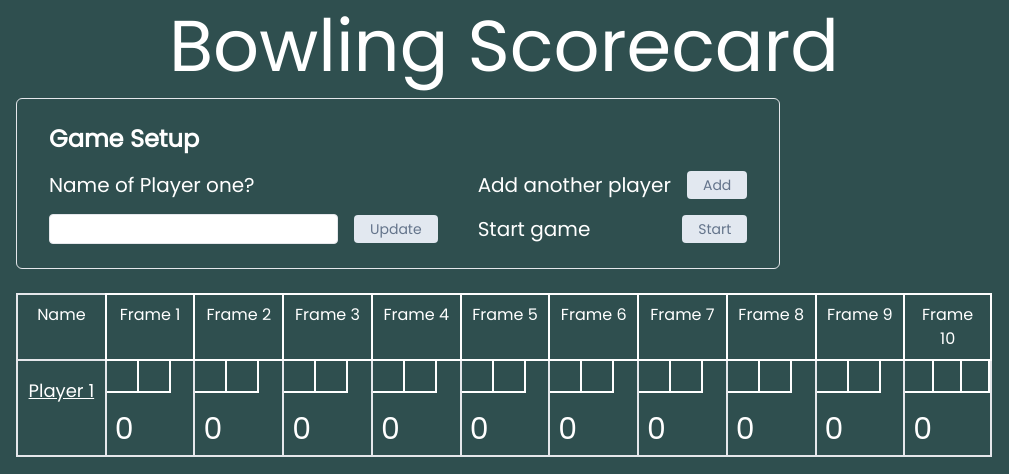
Scenario: Single player tests › Accumulated score calculations › total points with strikes should add 10 to that current frame, then add the both bowl's score to it the frame after
Click the button with test id "start-game-btn" at (715, 229), box left=682, top=215, right=747, bottom=243
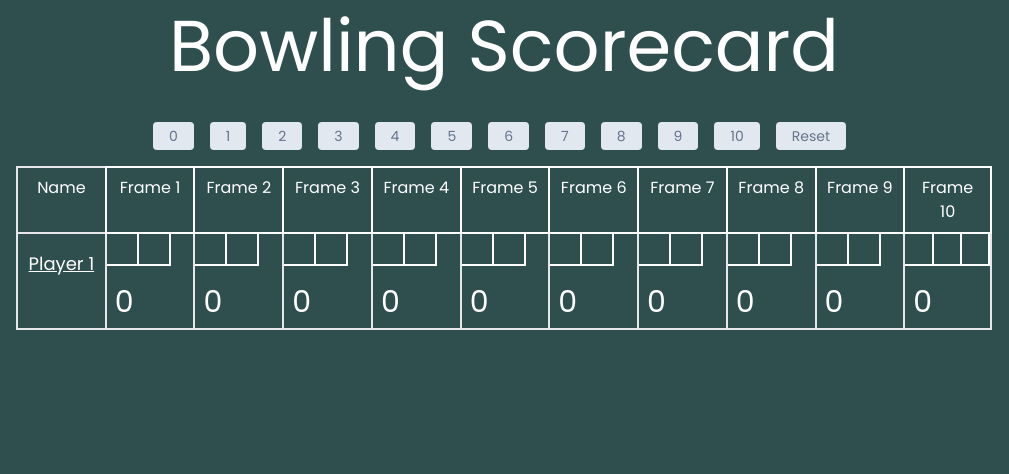
Click the button with test id "button-10" at (737, 136), box left=714, top=122, right=759, bottom=150
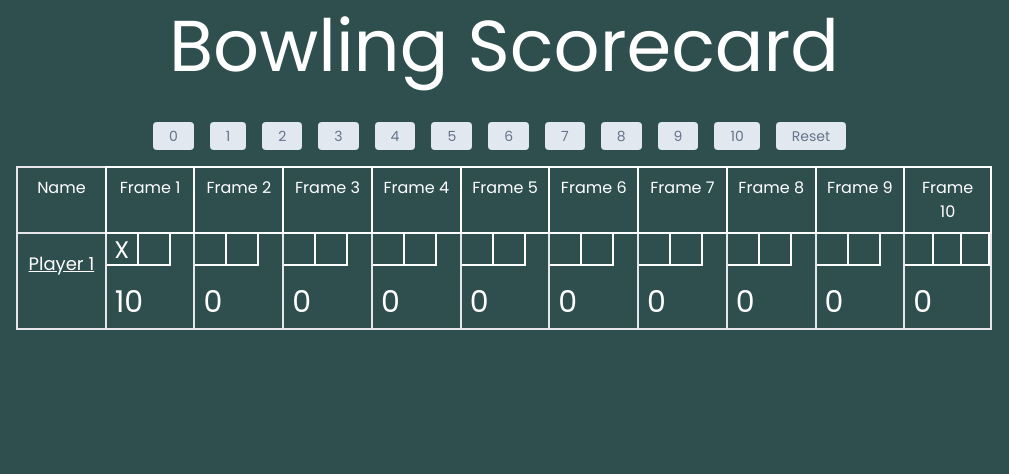
Expected: the text with test id "player-1-frame-1-total-score" reads "10", left=115, top=281, right=144, bottom=323
Click the button with test id "button-4" at (396, 136), box left=375, top=122, right=416, bottom=150
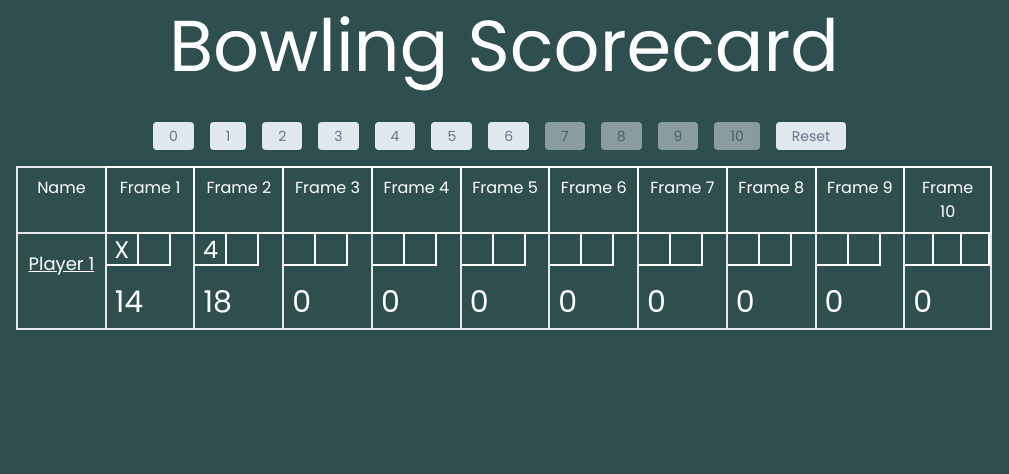
Expected: the text with test id "player-1-frame-1-total-score" reads "14", left=115, top=281, right=144, bottom=323
Click the button with test id "button-4" at (396, 136), box left=375, top=122, right=416, bottom=150
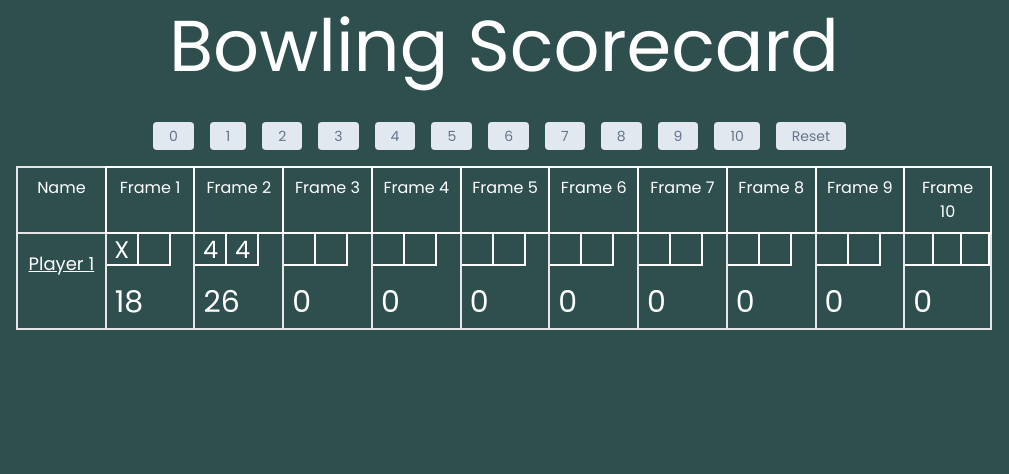
Expected: the text with test id "player-1-frame-1-total-score" reads "18", left=115, top=281, right=144, bottom=323
Expected: the text with test id "player-1-frame-2-total-score" reads "26", left=204, top=281, right=240, bottom=323
